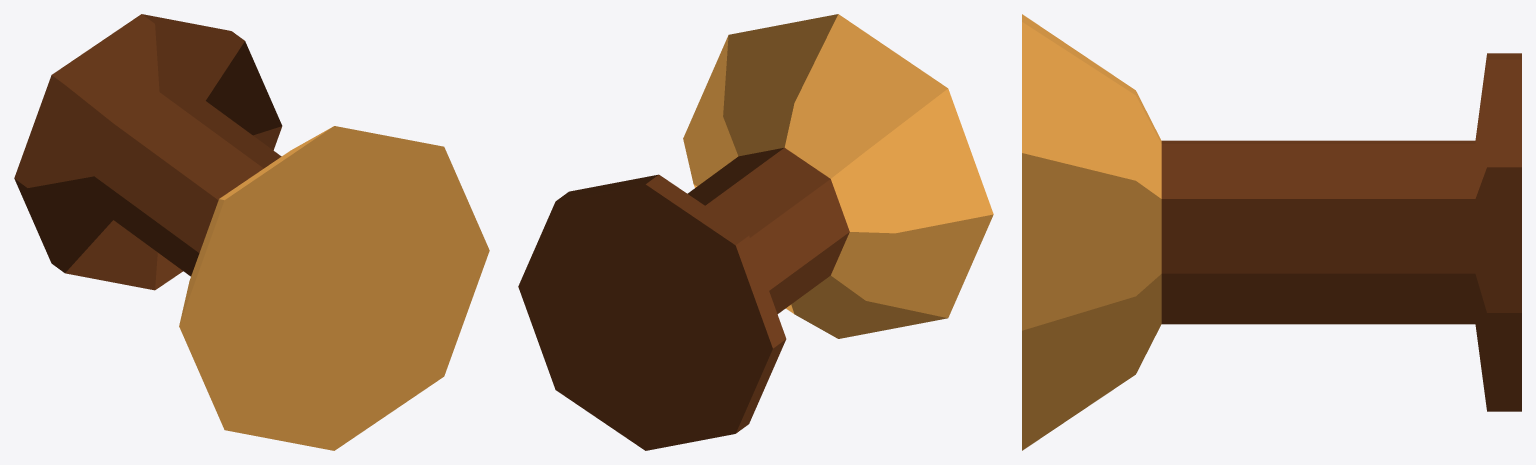
Rendered from baseball_bat.obj.
3 renders of one model, left to right at view 1: azimuth 30°, elevation 25°; view 2: azimuth 150°, elevation 25°; view 3: azimuth 270°, elevation 25°, orthographic. The views are drawn at different scales.
Parts seen in each view (by area): view 1: BaseballBat; view 2: BaseballBat; view 3: BaseballBat.
Part boxes in pixels (left/top/right/bottom): BaseballBat: left=14, top=14, right=489, bottom=450; BaseballBat: left=518, top=14, right=993, bottom=450; BaseballBat: left=1022, top=14, right=1521, bottom=450.
Bounding box in the file's own units: 2 × 2 × 2.15.
